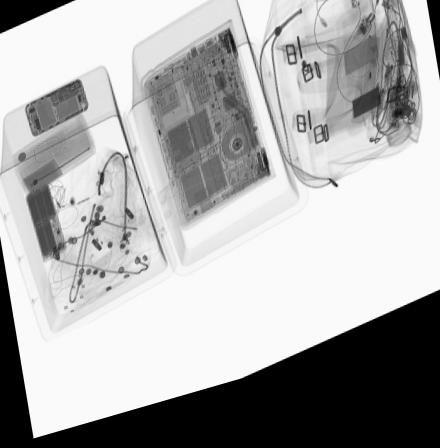Powerbank: (25, 184, 68, 266)
